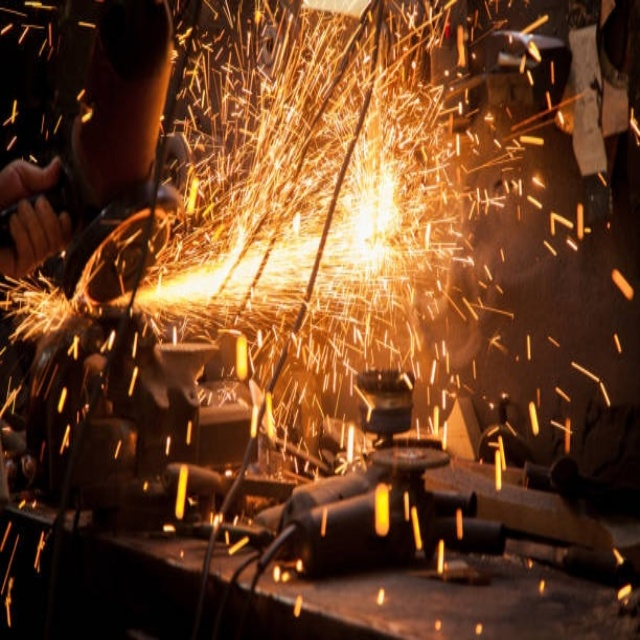Sin_guantes: (4, 149, 74, 282)
